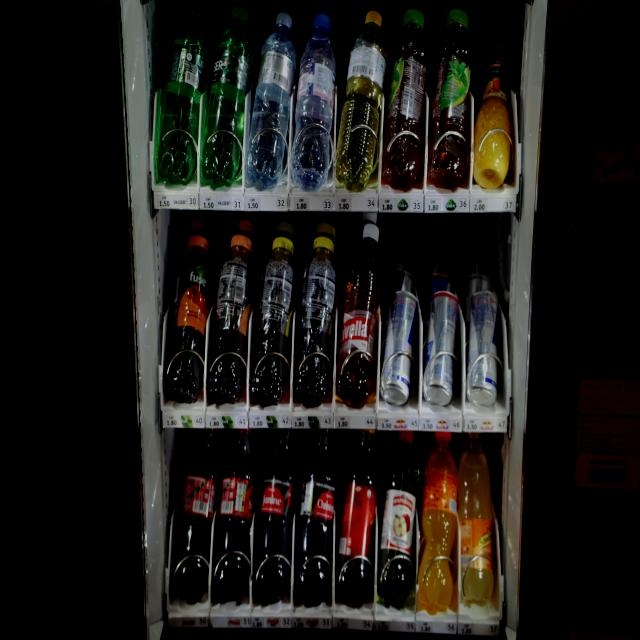coke__flasche_50__54491472: (175, 427, 220, 601), (220, 424, 252, 594)
coke_zero_flasche_50__5449000131836: (253, 424, 295, 596), (296, 425, 332, 600)
evian___50__3068320353500: (288, 7, 334, 188)
fanta___50__40822938: (418, 427, 461, 615)
fuse_lemon__50__5449000235947: (248, 233, 298, 399), (292, 232, 338, 398)
fuse_peach__50__5449000236623: (162, 233, 210, 404), (208, 232, 253, 402)
granini_orange___: (471, 32, 515, 186)
mezzomix___50__54490840: (342, 425, 374, 607)
ramseier_jusdepomme__50__7610057001078: (379, 428, 424, 614)
redbull___33__90162909: (464, 288, 506, 405), (379, 288, 420, 406), (423, 289, 458, 406)
rivella_rot__50__7610097111072: (333, 222, 383, 404)
valser_classic__50__76404160: (199, 1, 252, 189), (156, 1, 206, 189)
valser_still__50__7610335002575: (243, 8, 298, 192)
valser_vivabirne__50__7610335001530: (336, 9, 384, 190)
volvic_teeminze__50__3057640335648: (427, 3, 472, 190), (382, 4, 426, 190)
